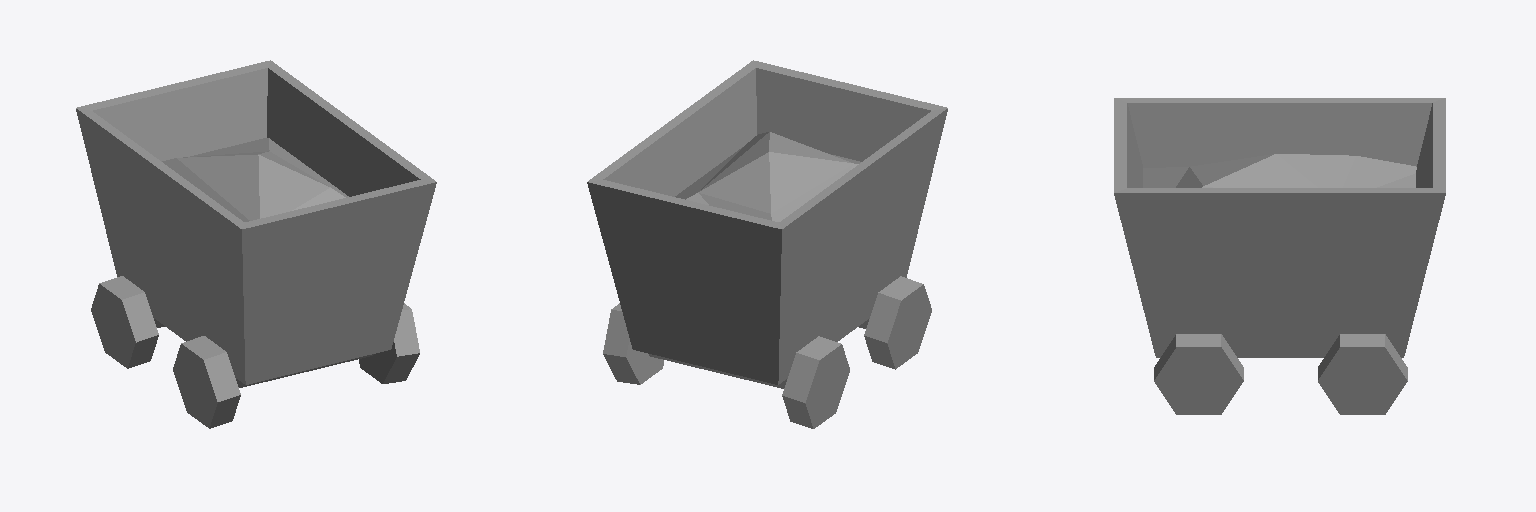
Rendered from minecart.obj.
3 renders of one model, left to right at view 1: azimuth 30°, elevation 25°; view 2: azimuth 150°, elevation 25°; view 3: azimuth 270°, elevation 25°, orthographic.
Parts seen in each view (by area): view 1: Geoset_000_Geoset_000_None_34.png, Geoset_004_Geoset_004_None_99.png, Geoset_001_Geoset_001_None, Geoset_002_Geoset_002_None; view 2: Geoset_000_Geoset_000_None_34.png, Geoset_004_Geoset_004_None_99.png, Geoset_001_Geoset_001_None, Geoset_002_Geoset_002_None; view 3: Geoset_000_Geoset_000_None_34.png, Geoset_002_Geoset_002_None, Geoset_004_Geoset_004_None_99.png, Geoset_001_Geoset_001_None.
Boxes of the visible parts, <box> form: Geoset_000_Geoset_000_None_34.png: <box>76,60,436,384</box>; Geoset_004_Geoset_004_None_99.png: <box>162,138,348,221</box>; Geoset_001_Geoset_001_None: <box>99,276,419,428</box>; Geoset_002_Geoset_002_None: <box>91,284,396,428</box>; Geoset_000_Geoset_000_None_34.png: <box>587,60,947,384</box>; Geoset_004_Geoset_004_None_99.png: <box>675,132,860,221</box>; Geoset_001_Geoset_001_None: <box>603,276,922,428</box>; Geoset_002_Geoset_002_None: <box>626,284,931,428</box>; Geoset_000_Geoset_000_None_34.png: <box>1114,98,1445,357</box>; Geoset_002_Geoset_002_None: <box>1154,347,1407,414</box>; Geoset_004_Geoset_004_None_99.png: <box>1143,154,1416,187</box>; Geoset_001_Geoset_001_None: <box>1154,334,1407,380</box>.
Bounding box in the file's own units: 1.48 × 1.51 × 2.05.